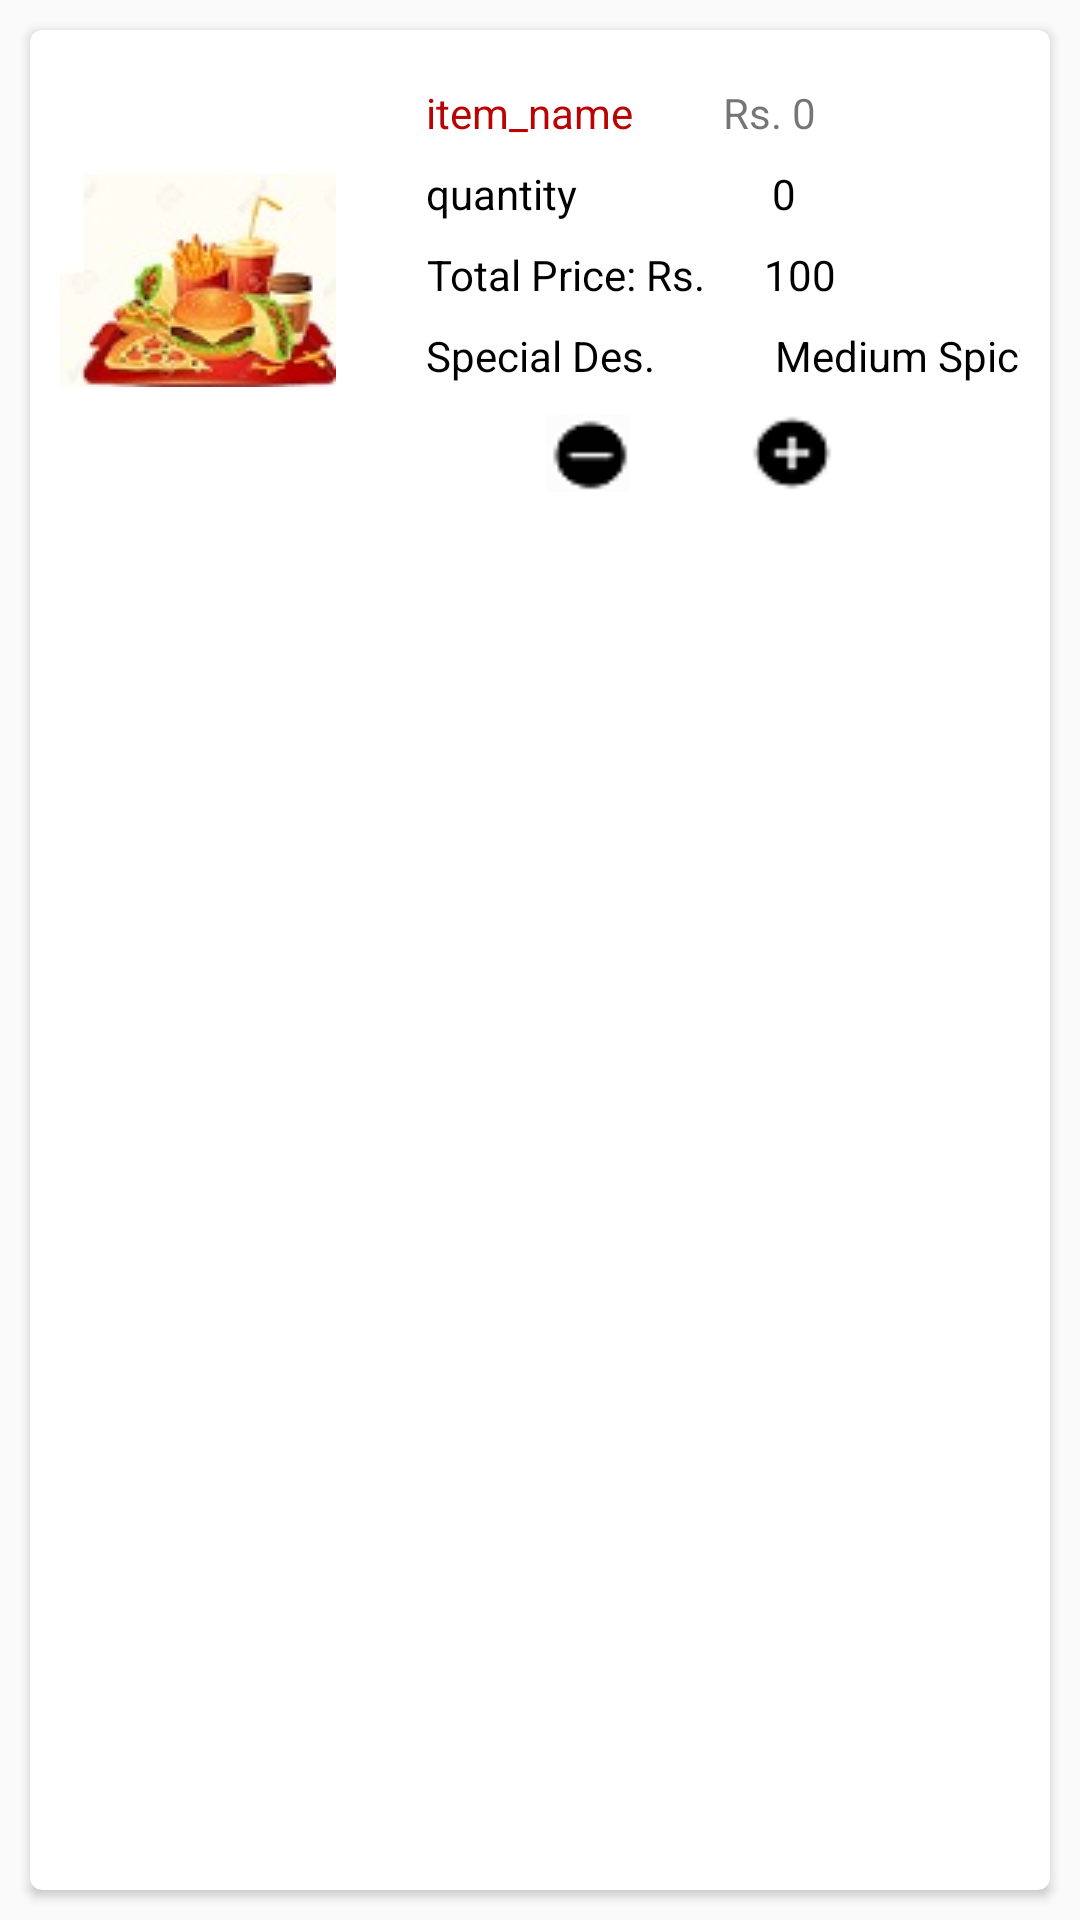

Icons on this 1080w x 1920h Android screen, each with its box as Rect(x1, y1, x2, y2):
minus: Rect(553, 421, 627, 490)
plus: Rect(754, 417, 830, 489)
